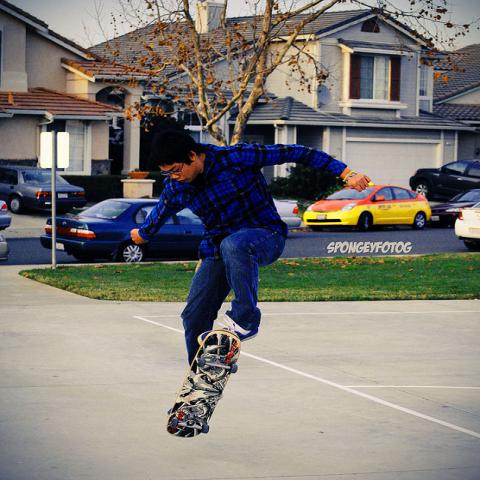car: (40, 198, 206, 263), (303, 182, 433, 231), (0, 165, 86, 216), (407, 159, 479, 205), (428, 188, 479, 228), (453, 198, 479, 253), (274, 198, 303, 226), (0, 199, 13, 232)
